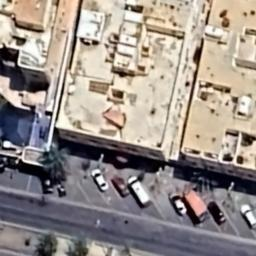sedan: (207, 198, 228, 228), (87, 168, 111, 194), (167, 192, 188, 218), (110, 174, 130, 198), (239, 204, 256, 232)
truck: (179, 188, 211, 226)
van: (127, 172, 152, 209)
